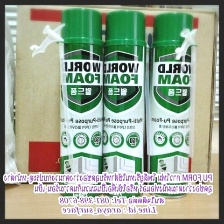aerosol_cans: (97, 4, 150, 201), (144, 7, 197, 201), (55, 4, 107, 201)
